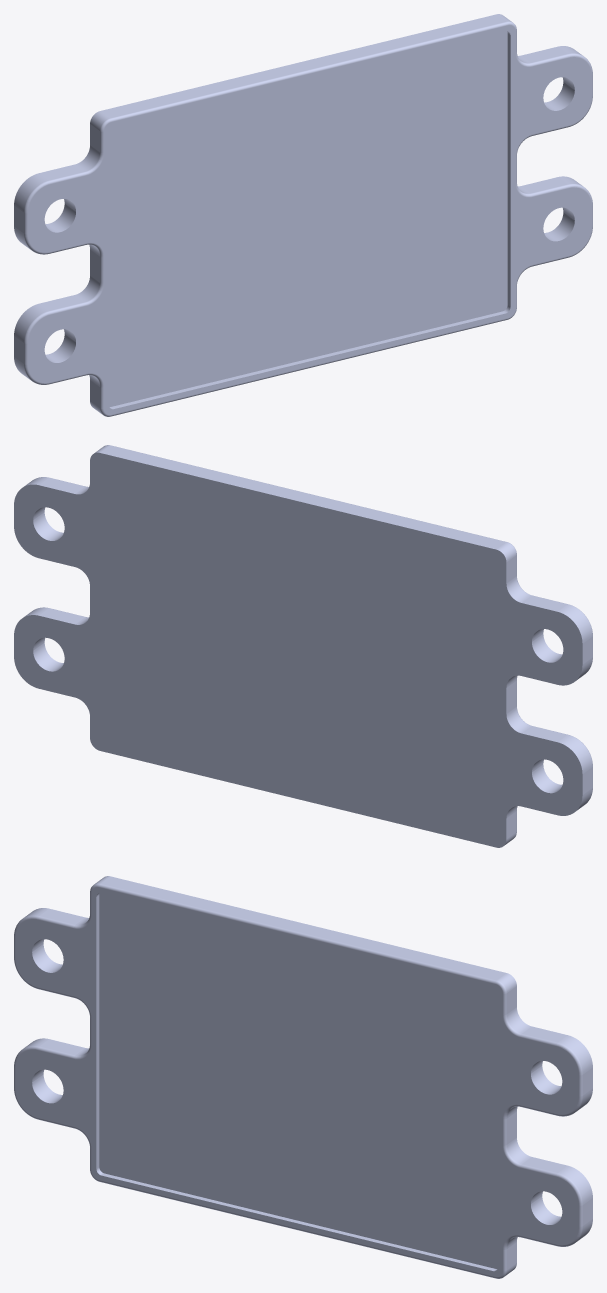
File: holder_plate.glb
3 renders of one model, top to bottom at view 1: azimuth 30°, elevation 25°; view 2: azimuth 150°, elevation 25°; view 3: azimuth 330°, elevation 25°, orthographic.
Visible parts, largest first — view 1: matt_holder_81x55_legs_gray2_metal; view 2: matt_holder_81x55_legs_gray2_metal; view 3: matt_holder_81x55_legs_gray2_metal.
Boxes of the visible parts, x1=… form: matt_holder_81x55_legs_gray2_metal: x1=14, y1=14, x2=592, y2=416; matt_holder_81x55_legs_gray2_metal: x1=14, y1=445, x2=592, y2=847; matt_holder_81x55_legs_gray2_metal: x1=14, y1=876, x2=592, y2=1278.
Size of the model in its own units: 0.114 by 0.0571 by 0.004.
